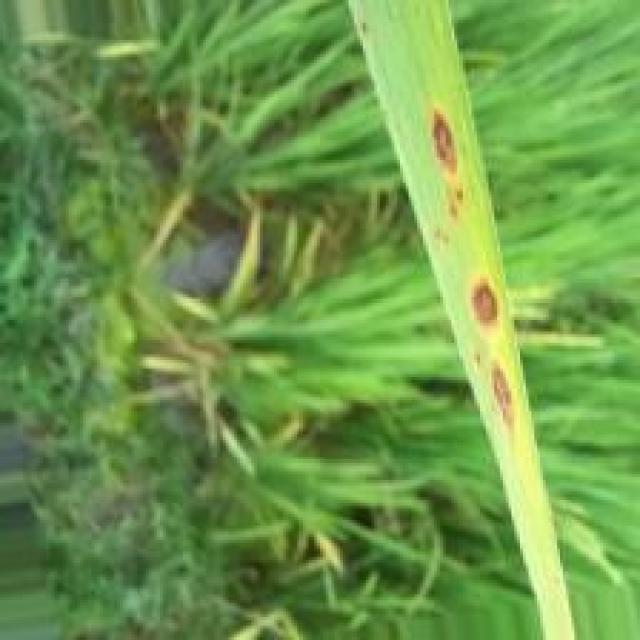Brown_Spot: (430, 104, 459, 181), (472, 275, 499, 331), (491, 361, 515, 423)
